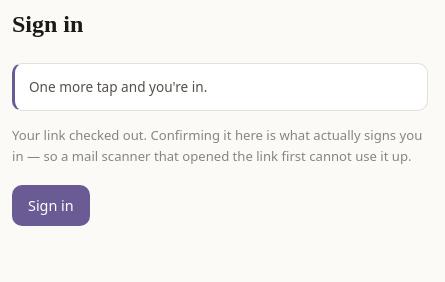
arriving from the emailed link › says the link failed rather than leaving the button spinning
Check: the text "One more tap and you're in." is shown, box [12, 63, 428, 111]
Click the button "Sign in".
click(51, 206)  # box [12, 185, 90, 226]
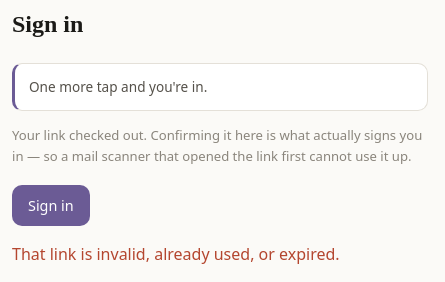
Check: the text "That link is invalid, already used, or expired." is shown, box [12, 243, 340, 265]
